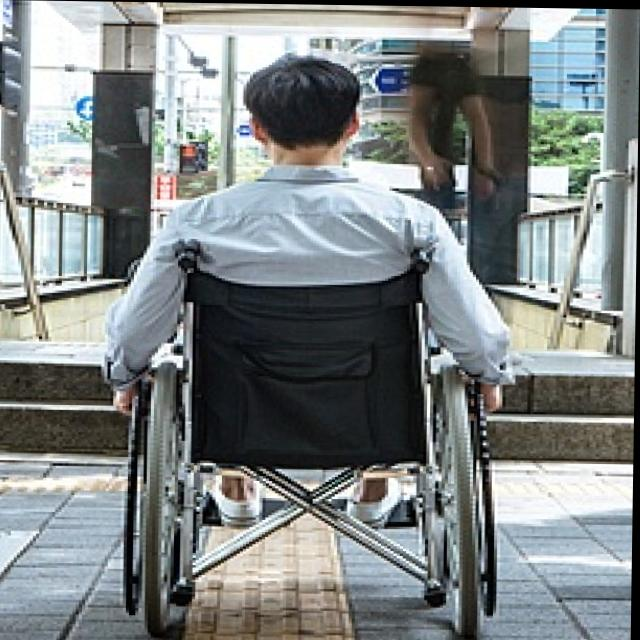wheelchair: (100, 50, 528, 638)
